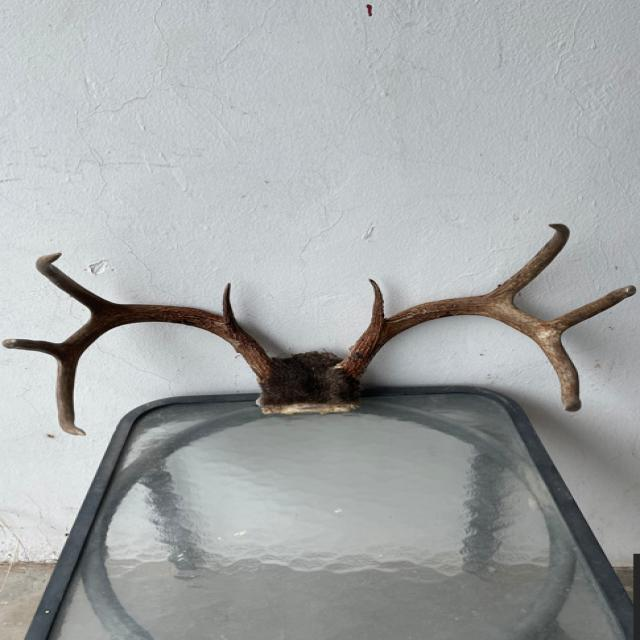L-F: (333, 296, 582, 413)
L-G1: (368, 278, 387, 327)
L-G2: (479, 223, 570, 306)
L-G3: (544, 285, 638, 338)
R-F: (56, 304, 271, 437)
R-G1: (222, 282, 238, 325)
R-G2: (34, 252, 118, 319)
R-G3: (1, 338, 63, 361)
